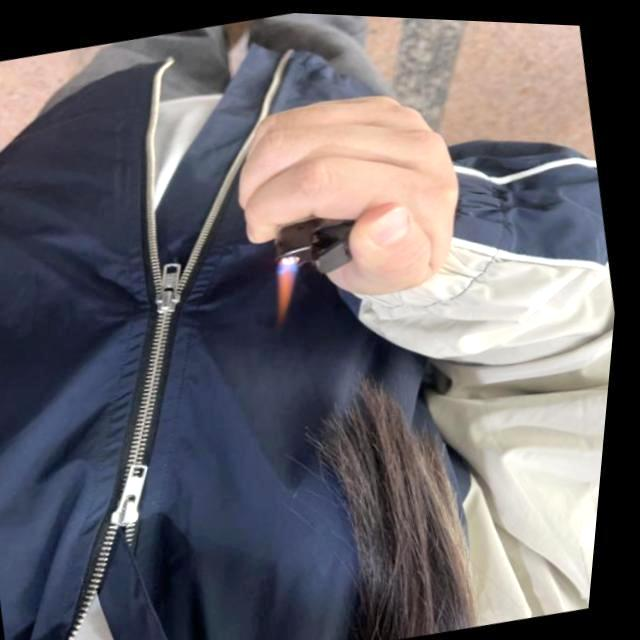fire: (268, 250, 316, 324)
